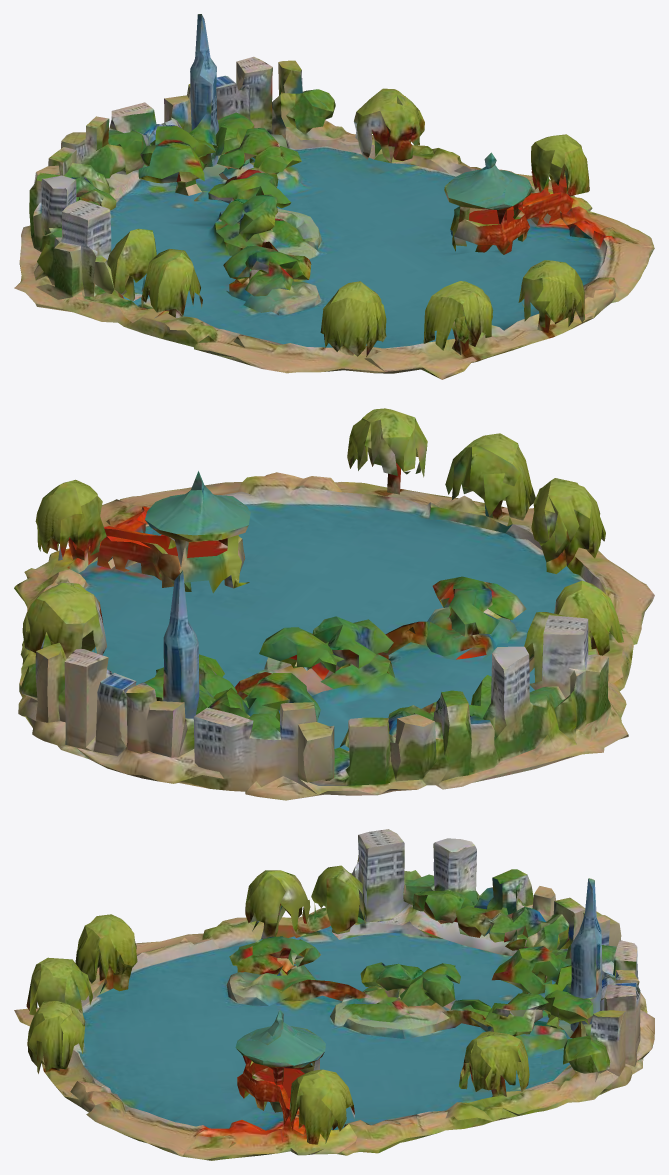
The model's file is ohori-park.glb.
3 renders of one model, top to bottom at view 1: azimuth 30°, elevation 25°; view 2: azimuth 150°, elevation 25°; view 3: azimuth 270°, elevation 25°, orthographic. The views are drawn at different scales.
Visible parts, largest first — view 1: logan-textured.obj; view 2: logan-textured.obj; view 3: logan-textured.obj.
Part boxes in pixels (left/top/right/bottom): logan-textured.obj: left=14, top=14, right=654, bottom=379; logan-textured.obj: left=14, top=408, right=654, bottom=800; logan-textured.obj: left=14, top=829, right=654, bottom=1160.
Bounding box in the file's own units: 0.9749 × 0.2666 × 1.
Materials: 1 (1 with a texture image).
